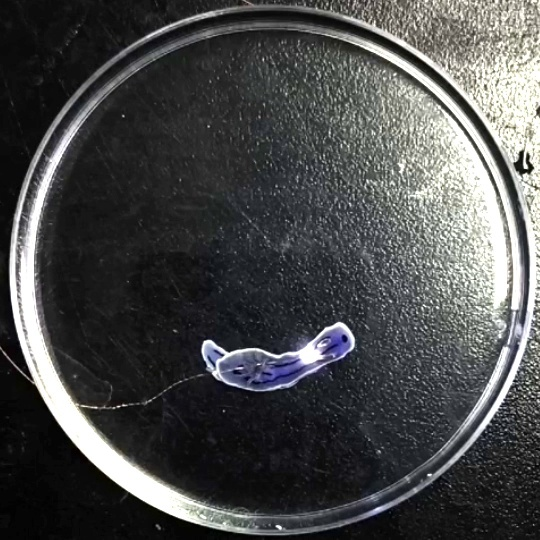sea-slug: (110, 31, 344, 372)
